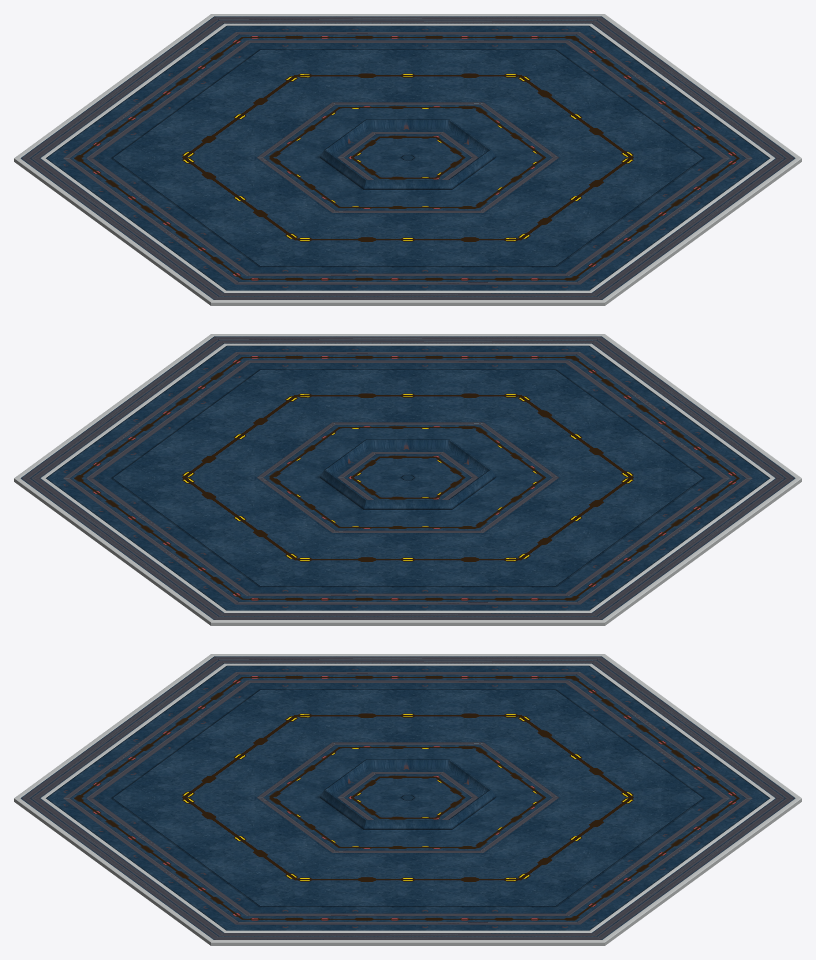
Rendered from Museum_Hex_Base_Art.fbx.
3 renders of one model, top to bottom at view 1: azimuth 30°, elevation 25°; view 2: azimuth 150°, elevation 25°; view 3: azimuth 270°, elevation 25°, orthographic.
Parts seen in each view (by area): view 1: Museum_Hex_Base_01; view 2: Museum_Hex_Base_01; view 3: Museum_Hex_Base_01.
Boxes of the visible parts, bbox=[...] form: Museum_Hex_Base_01: bbox=[14, 14, 801, 305]; Museum_Hex_Base_01: bbox=[14, 334, 801, 625]; Museum_Hex_Base_01: bbox=[14, 654, 801, 945].
Size of what is drawn, in the model's own units: 8227 by 156 by 9500.
2 materials, 2 textured.
